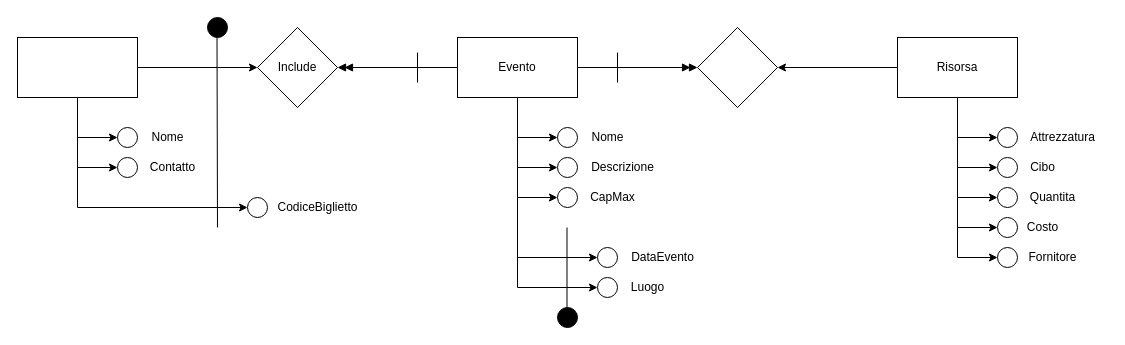
Some shapes in this 1125 by 345 pixel diagram are drawn without their labels. Each missing label, with the box of its shape:
Contiene: (696, 26, 778, 108)
Partecipante: (16, 36, 138, 98)
